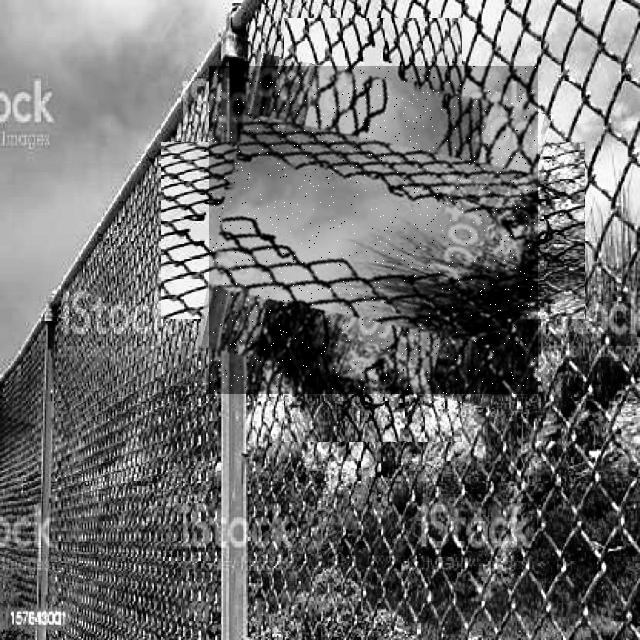anomaly-fence: (209, 66, 538, 394)
